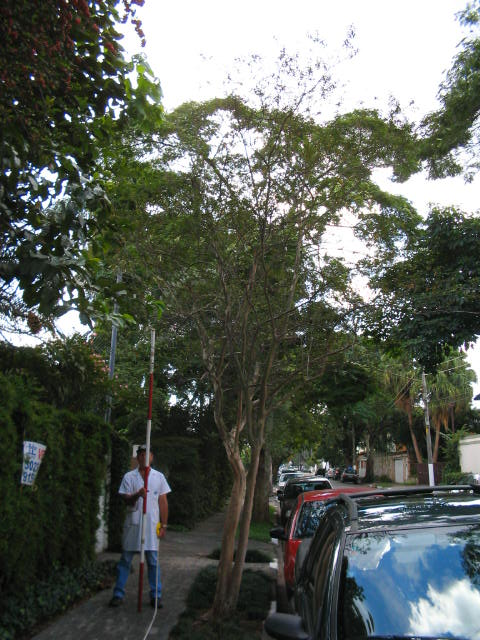crown: (90, 89, 421, 410)
stem: (208, 439, 254, 621)
stick: (133, 327, 161, 615)
tree: (87, 86, 422, 622)
